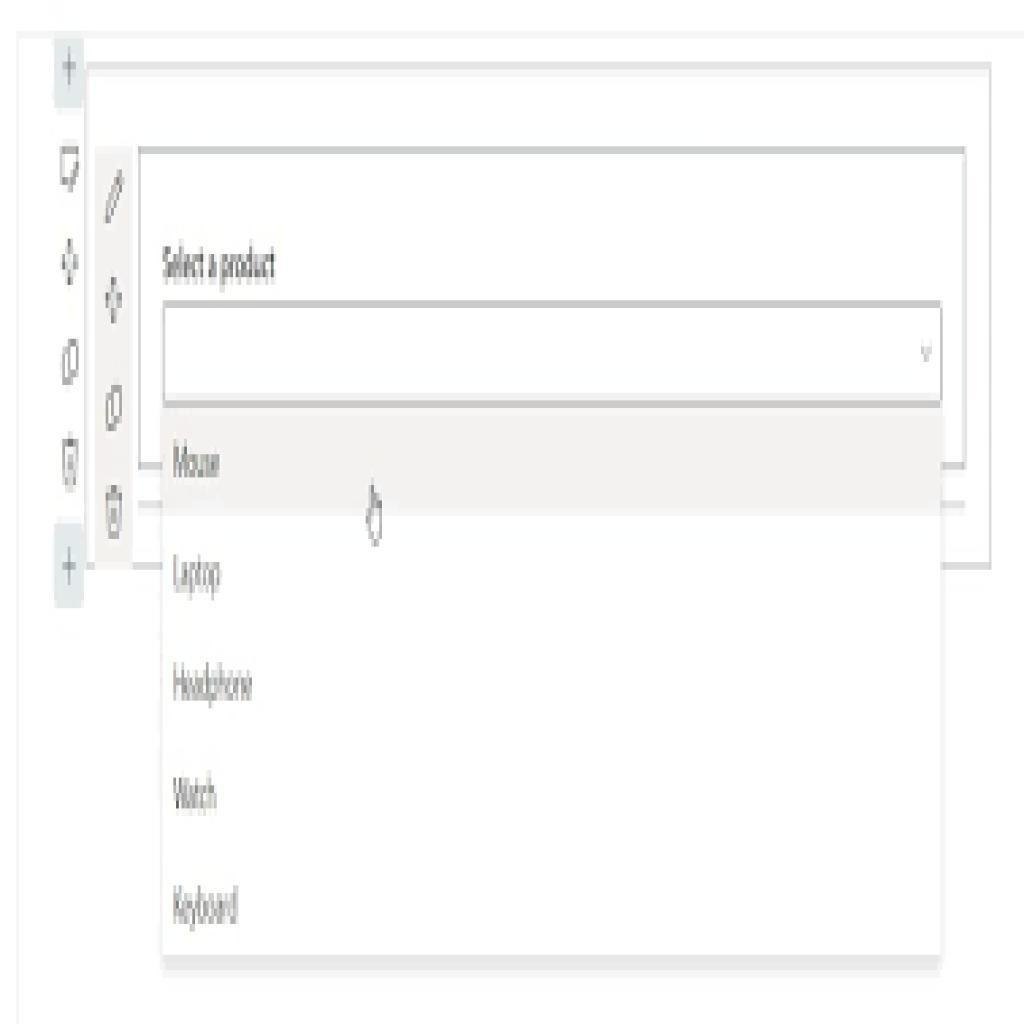dropdown: (159, 298, 949, 408)
icon: (101, 481, 129, 550), (55, 334, 85, 395), (101, 274, 130, 331), (101, 171, 129, 228), (57, 144, 83, 200), (60, 435, 82, 499), (60, 541, 85, 597), (58, 45, 85, 93), (60, 235, 83, 291), (104, 384, 127, 436)
